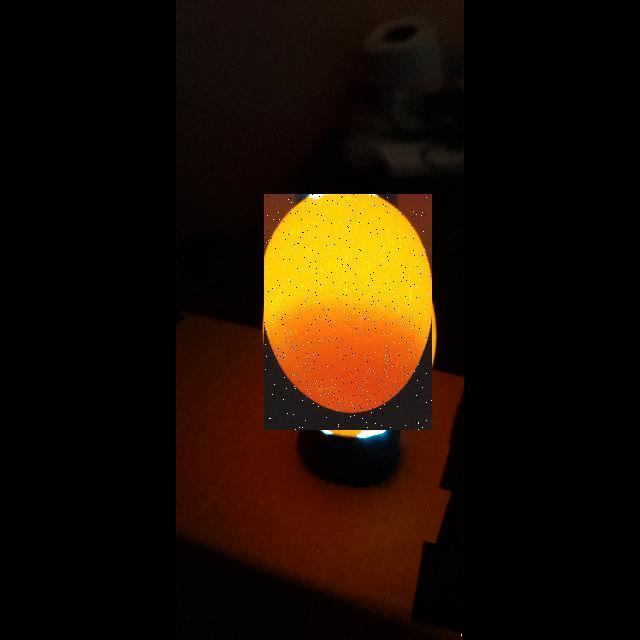Inedible: (260, 189, 438, 426)
